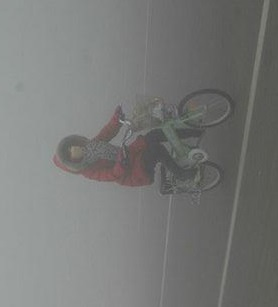person: (52, 109, 200, 188)
